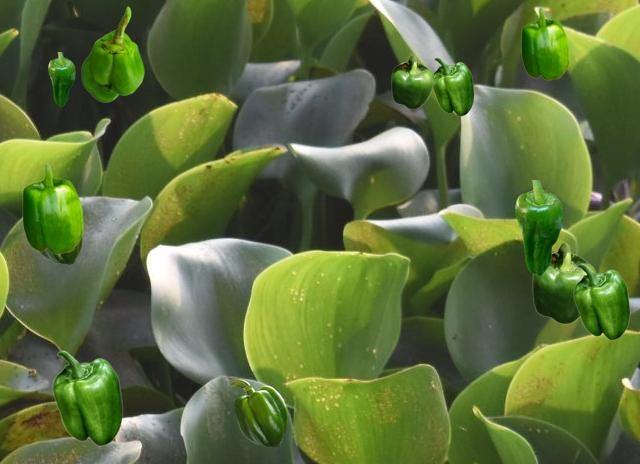bell_pepper: (52, 350, 122, 445), (81, 6, 143, 101), (22, 163, 82, 253), (532, 242, 596, 323), (515, 180, 562, 275), (573, 263, 629, 339), (229, 379, 286, 446), (521, 7, 568, 79), (433, 57, 473, 115), (391, 55, 433, 108), (48, 52, 74, 105), (38, 239, 81, 263)
